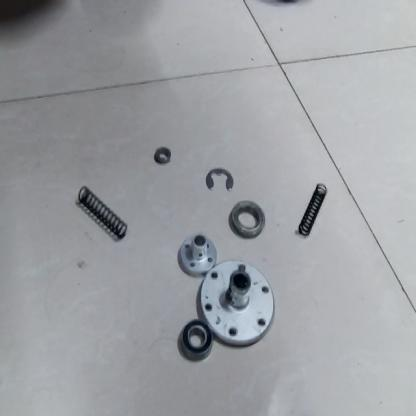FOD: (198, 254, 282, 350), (74, 183, 130, 243), (174, 229, 219, 278), (296, 180, 332, 239), (179, 316, 218, 367), (228, 197, 266, 241), (204, 165, 235, 195), (152, 146, 172, 170)
